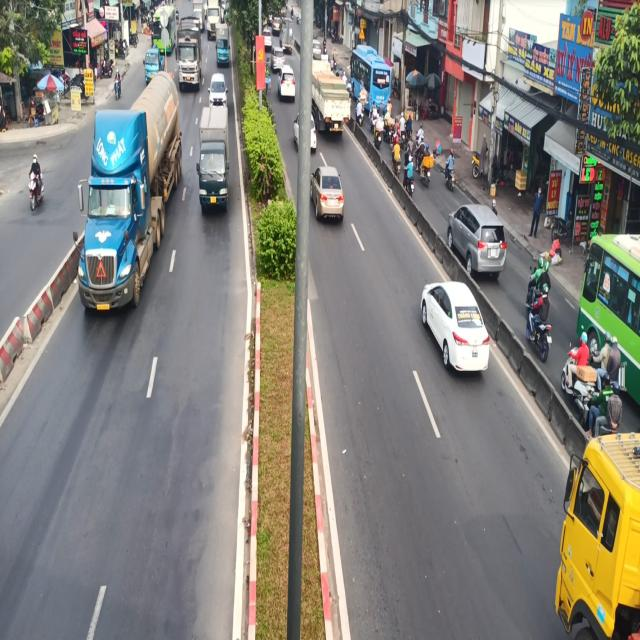car: (417, 276, 488, 398), (446, 188, 507, 281), (312, 153, 351, 242)
truck: (80, 76, 187, 325), (194, 98, 233, 220)
